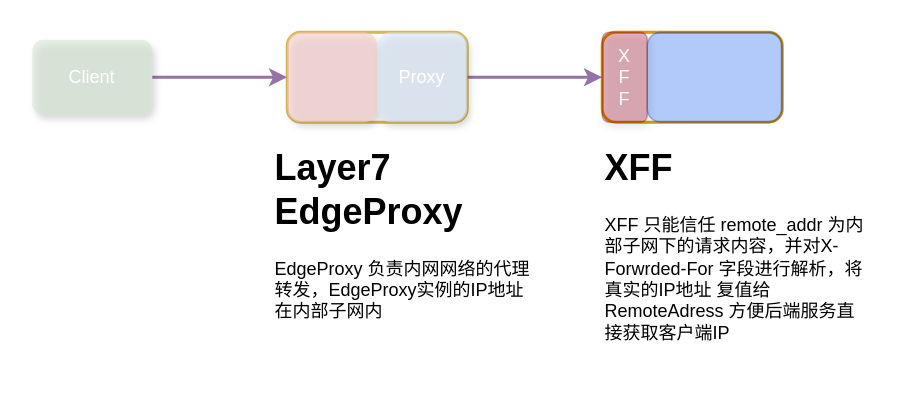
Image size: 897x393. Some labels were removed from this diagram. Here are the shapes that lost their labels. From the top down, the centre of each, then its label:
[333,79]: L7 Edge
[714,76]: Backend Server
